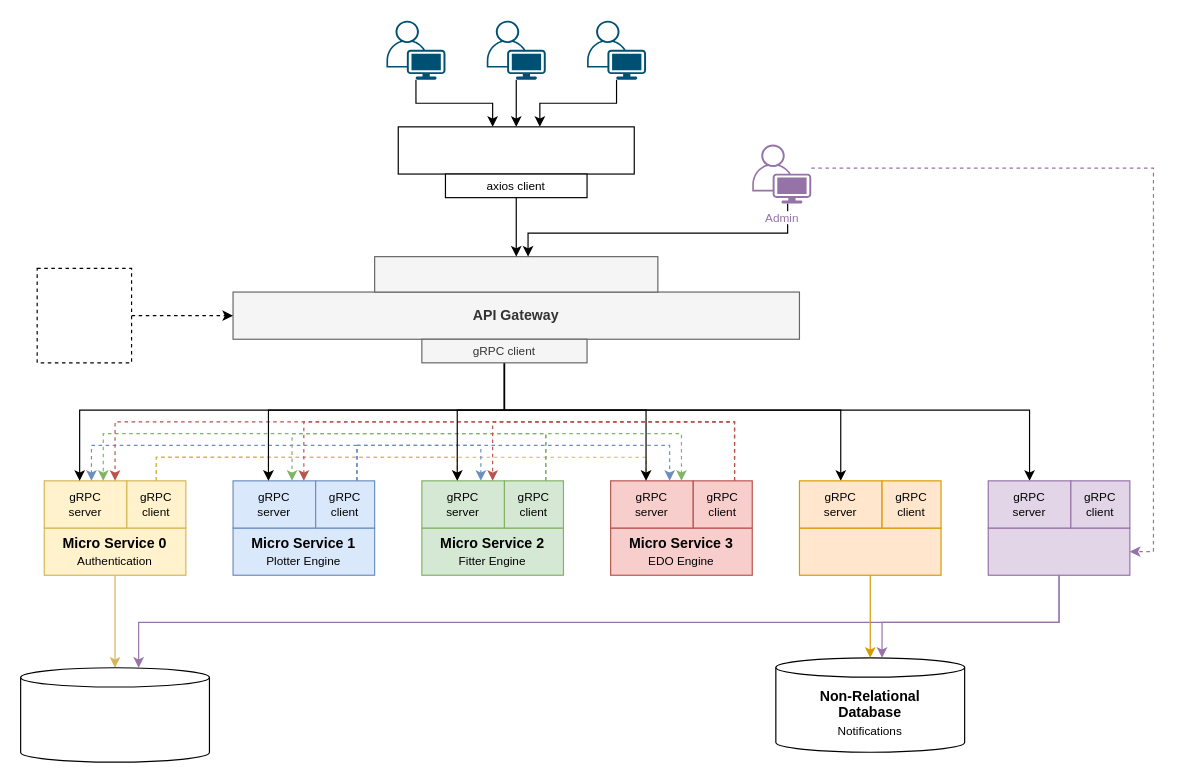
The diagram is 1184 pixels wide and 782 high, and some of its shapes have lost their labels. The shapes that lost their labels are listed below. From the top down, each one's centre as x and y in pixels, then its label:
(x=515, y=150): Application
(x=515, y=273): Oauth2 + JWT Validation
(x=84, y=315): Control Panel
(x=869, y=551): Micro Service 4 Notifications
(x=1058, y=551): Micro Service 5 Admin Manager
(x=114, y=714): Relational Database Accounts
